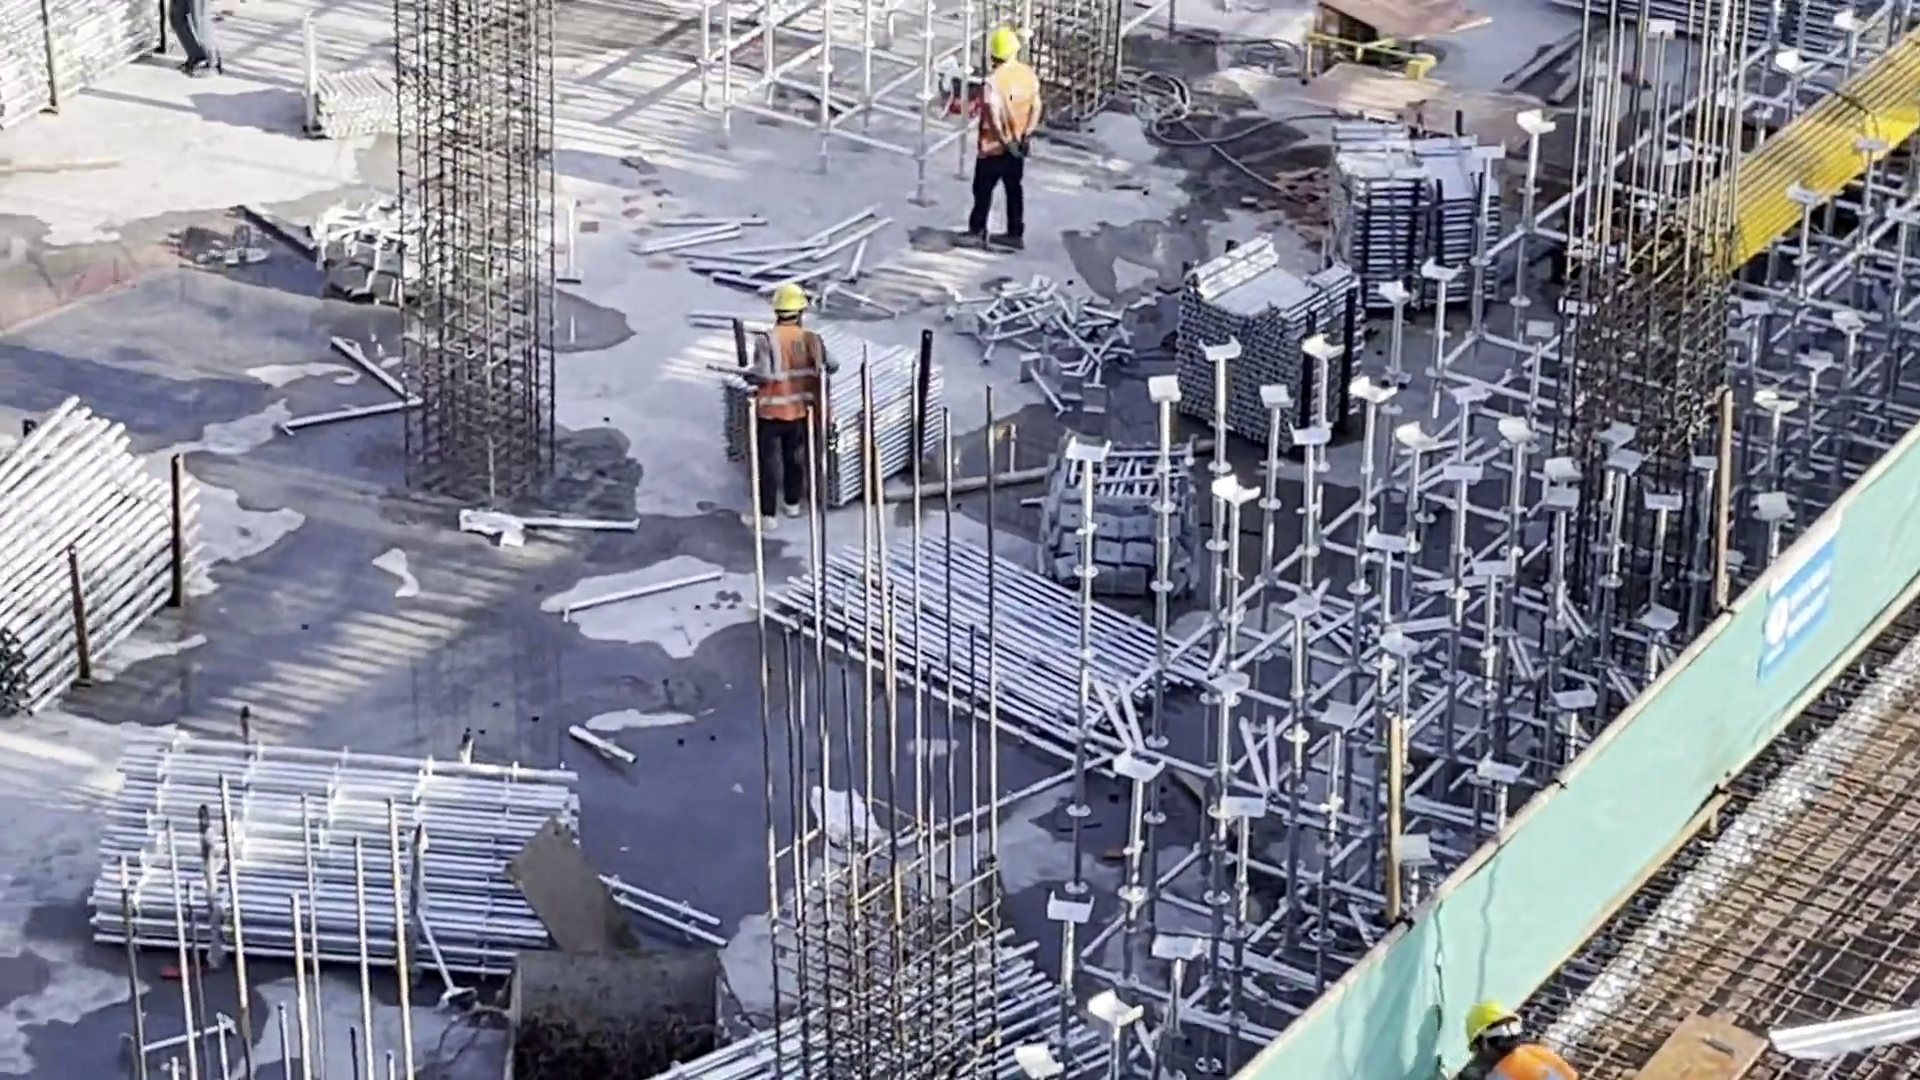cutter: (1316, 65, 1539, 164), (1327, 1, 1478, 58)
helmet: (1459, 1007, 1524, 1040), (766, 287, 804, 315), (984, 31, 1021, 59)
person: (725, 279, 837, 526), (969, 29, 1043, 253), (1454, 1006, 1579, 1080), (159, 1, 227, 83)
scaffold: (171, 761, 601, 969), (783, 537, 1155, 729), (1, 444, 177, 673), (738, 943, 1024, 1080), (723, 317, 946, 478), (1196, 261, 1328, 448), (1340, 160, 1469, 309), (1, 1, 175, 107), (299, 42, 420, 138)
vest: (743, 336, 815, 428), (987, 77, 1040, 144), (1493, 1051, 1552, 1080)
